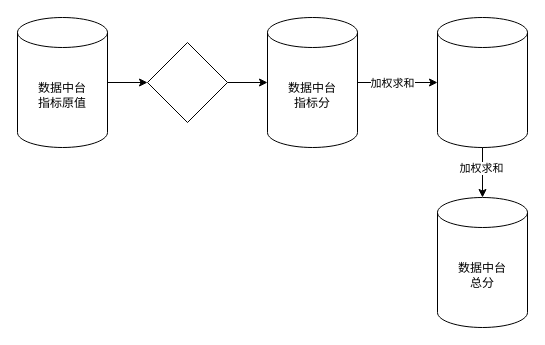
This 545x345 diagram has some shape labels left out. The shapes that lost their labels are listed below. From the top down, each one's box as (x1, y1, x2, y2) in pixels, then its label:
(146, 42, 228, 122): 打分函数
(436, 16, 528, 148): 数据中台 维度分
